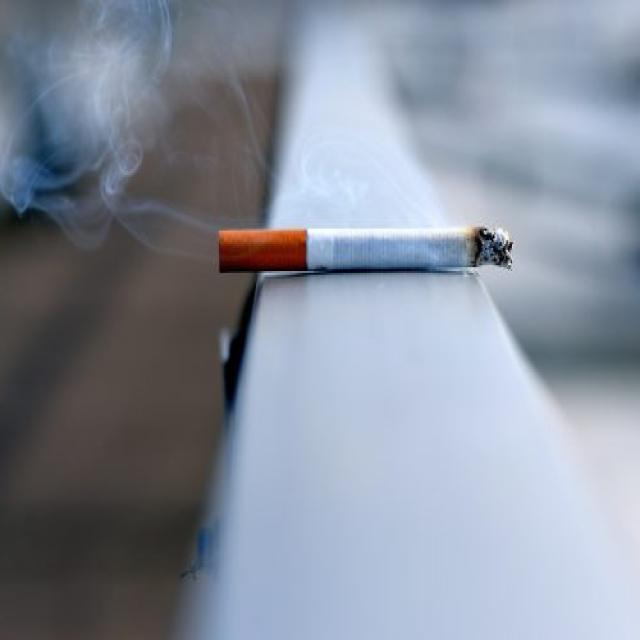Cigarette: (217, 224, 512, 278)
